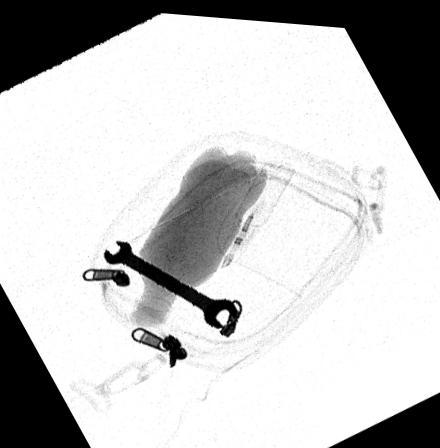Wrench: (102, 237, 241, 328)
